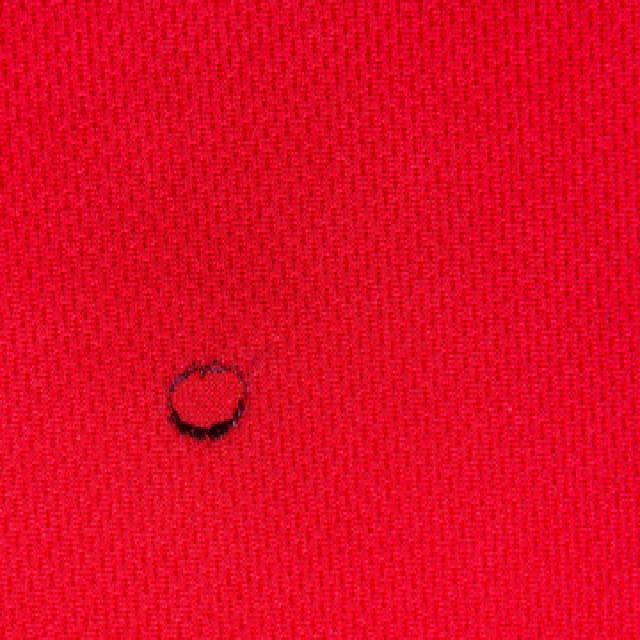Hole: (168, 362, 248, 441)
